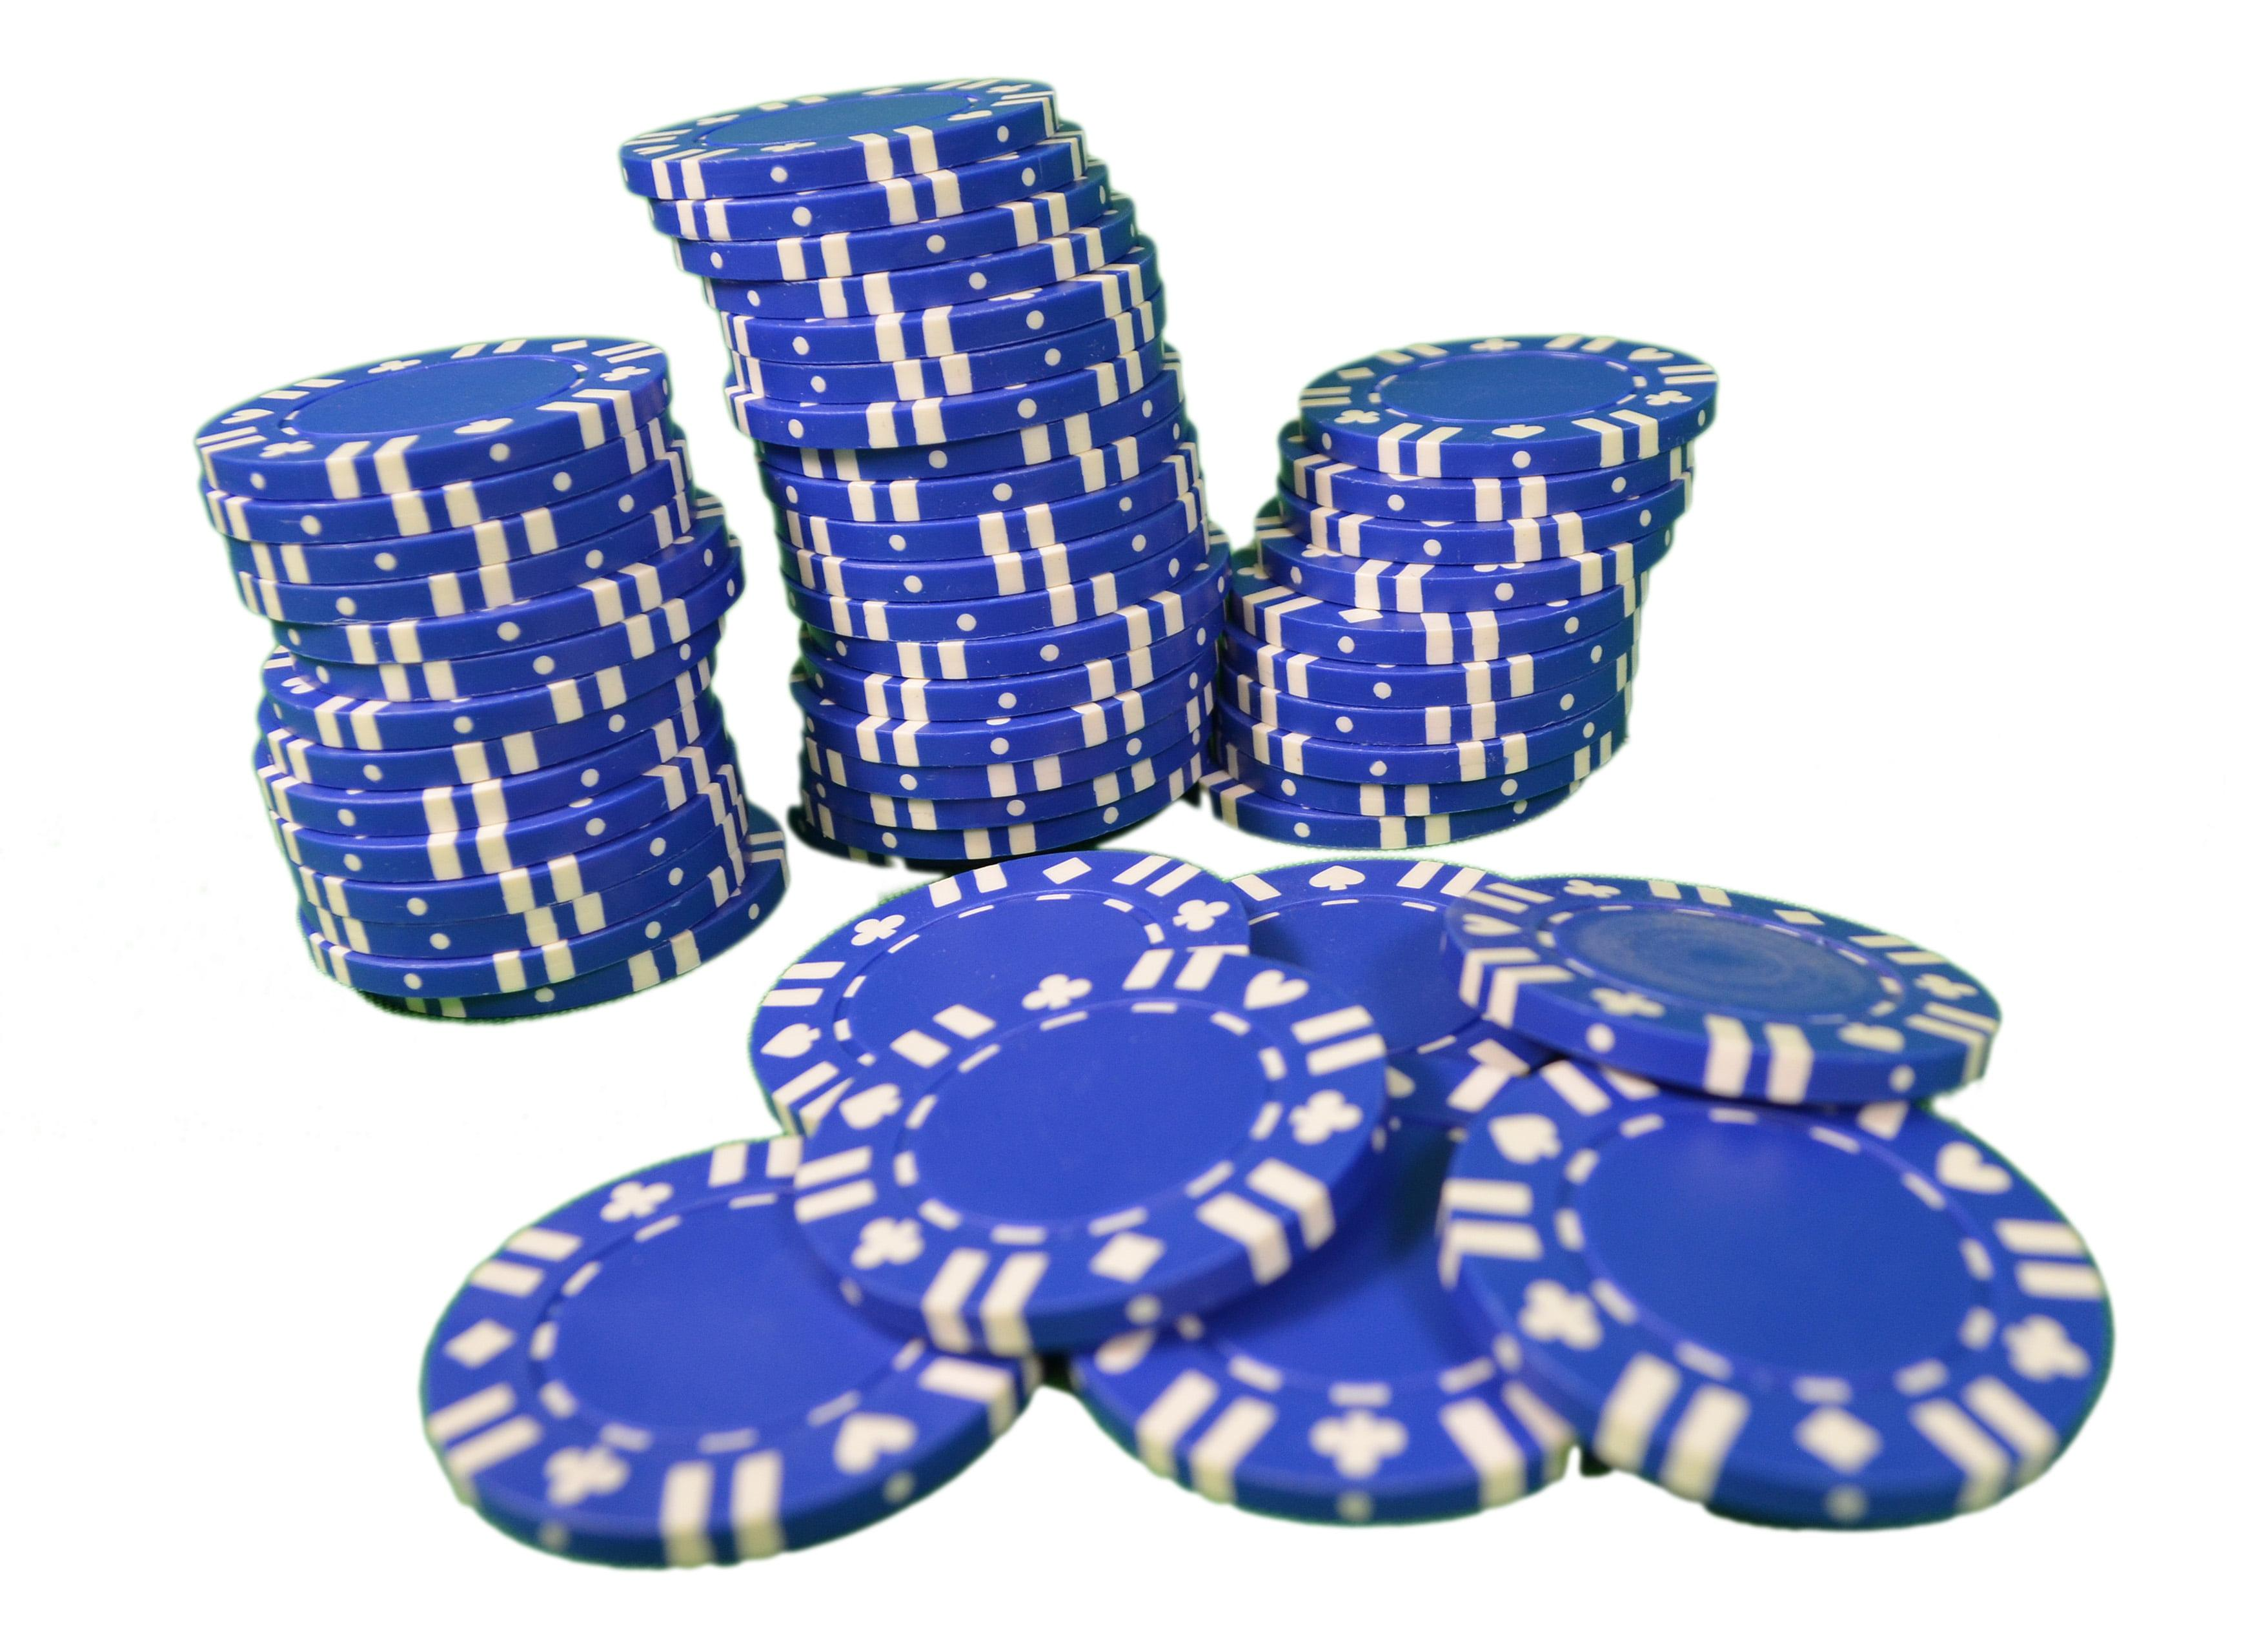chip-blue: (1440, 1060, 2108, 1528), (421, 1139, 1041, 1568), (798, 949, 1386, 1355), (1072, 1121, 1572, 1524), (754, 850, 1248, 1130), (1449, 877, 1999, 1104), (363, 811, 784, 1023), (195, 336, 669, 500), (275, 496, 731, 665), (225, 429, 690, 584), (292, 762, 740, 922), (289, 546, 745, 701), (269, 730, 736, 882), (301, 806, 745, 958), (257, 695, 722, 838), (234, 488, 696, 625), (257, 657, 713, 794), (801, 532, 1227, 678), (1303, 336, 1719, 479), (199, 421, 669, 546), (266, 620, 718, 748), (704, 199, 1157, 319), (722, 239, 1160, 363), (620, 79, 1055, 199), (652, 123, 1085, 243), (1236, 855, 1497, 1054), (301, 882, 727, 1002), (775, 444, 1201, 563), (780, 482, 1204, 602), (784, 528, 1210, 642), (792, 651, 1219, 766), (673, 173, 1111, 283), (727, 336, 1160, 447), (801, 686, 1213, 803), (801, 611, 1222, 722), (731, 297, 1166, 403), (801, 748, 1204, 859), (762, 421, 1196, 523), (1227, 567, 1648, 665), (801, 727, 1204, 829), (1222, 611, 1639, 709), (1219, 646, 1634, 745), (1280, 426, 1692, 523), (1257, 514, 1669, 611), (1280, 473, 1692, 567), (1219, 722, 1625, 815), (1219, 692, 1631, 783), (757, 389, 1152, 482), (1201, 771, 1578, 850)
